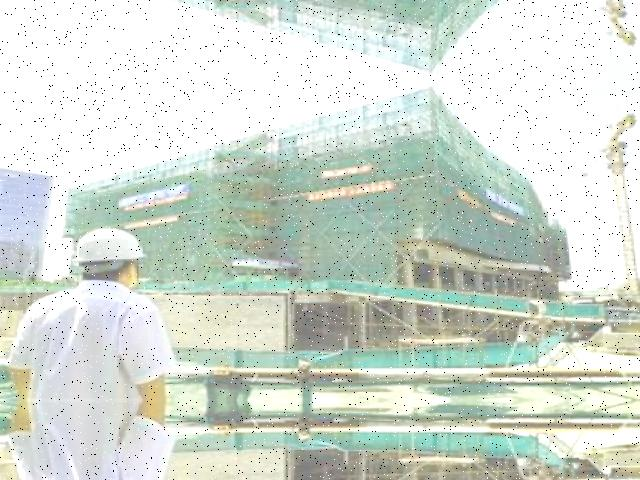Helmet: (71, 224, 151, 268)
